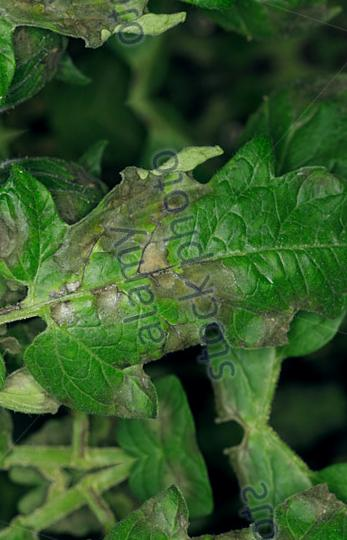Tomato leaf late blight: (0, 68, 347, 452)
